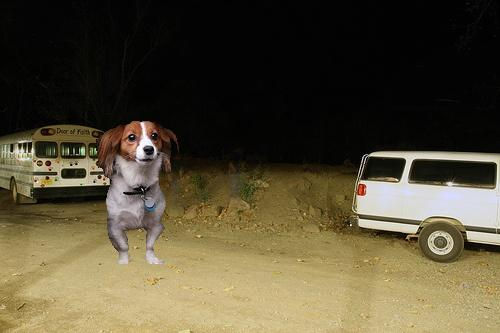tampered: (97, 122, 179, 264)
